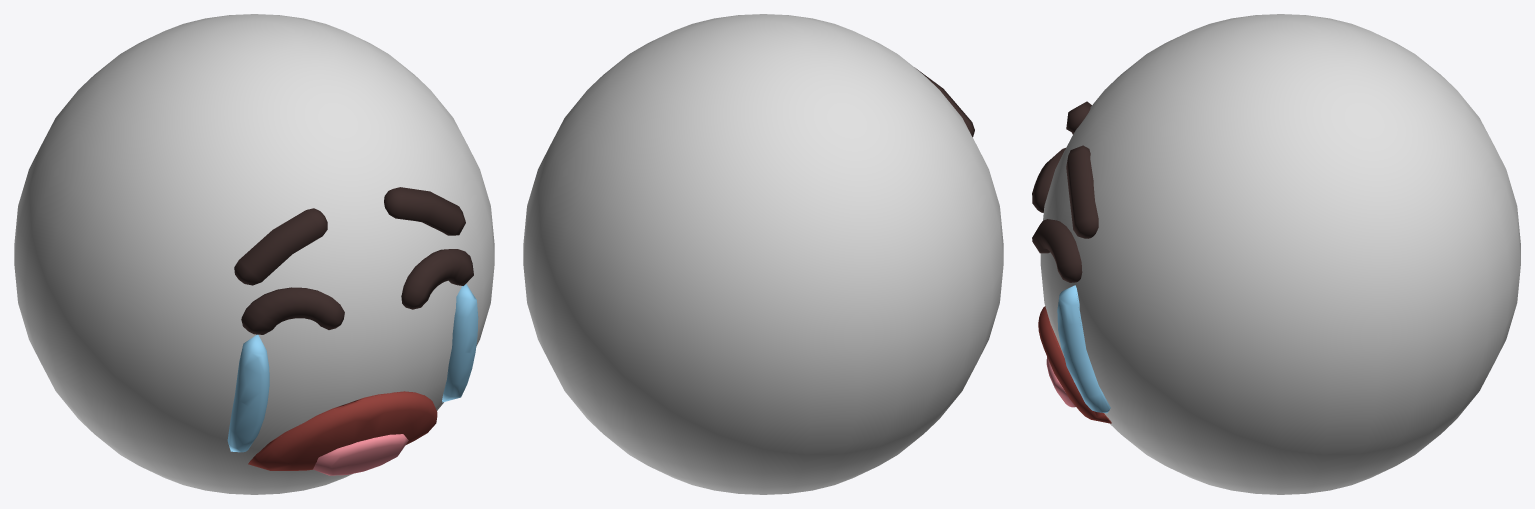
Rendered from face_loud_cry.glb.
The picture shows the model from 3 angles, left to right: view 1: azimuth 30°, elevation 25°; view 2: azimuth 150°, elevation 25°; view 3: azimuth 270°, elevation 25°; orthographic projection.
Parts seen in each view (by area): view 1: face_loud_cry; view 2: face_loud_cry; view 3: face_loud_cry.
Boxes of the visible parts, bbox=[...] form: face_loud_cry: bbox=[14, 14, 494, 494]; face_loud_cry: bbox=[523, 14, 1003, 494]; face_loud_cry: bbox=[1032, 14, 1520, 494].
Size of the model in its own units: 1 by 1 by 1.01.
